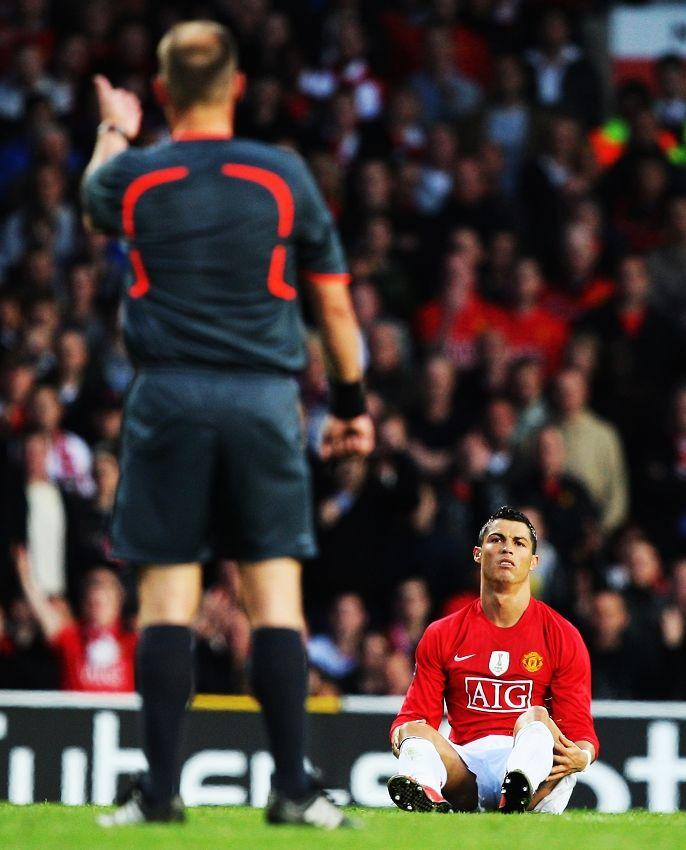bending: (382, 493, 616, 822)
up: (79, 16, 379, 820)
